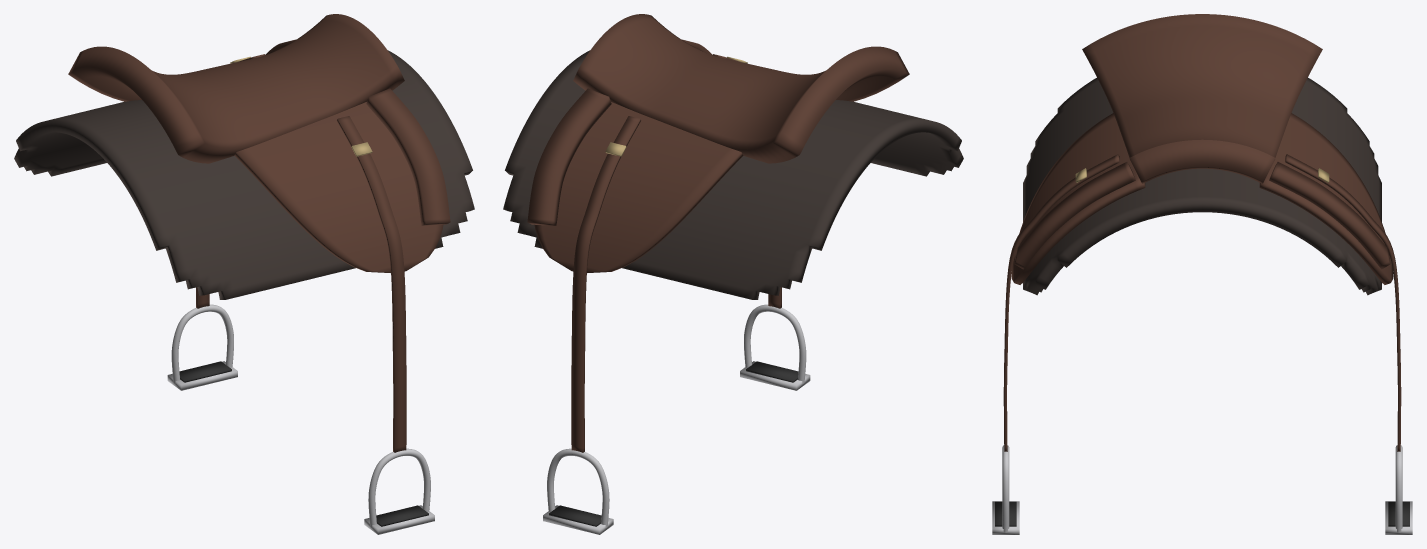
Rendered from saddle.glb.
The picture shows the model from 3 angles, left to right: view 1: azimuth 30°, elevation 25°; view 2: azimuth 150°, elevation 25°; view 3: azimuth 270°, elevation 25°; orthographic projection.
Parts seen in each view (by area): view 1: Вальтрап, Сидіння, Крило_Л, Путлище_Л, Наколінник_Л, Стремено_Л, Стремено_П, Гума_Л, Гума_П, Підніжка_Л, Підніжка_П; view 2: Вальтрап, Сидіння, Крило_П, Путлище_П, Наколінник_П, Стремено_П, Стремено_Л, Гума_П, Гума_Л, Підніжка_Л, Підніжка_П; view 3: Сидіння, Вальтрап, Крило_Л, Крило_П, Наколінник_Л, Наколінник_П, Путлище_Л, Путлище_П, Стремено_Л, Стремено_П.
Boxes of the visible parts, bbox=[...] form: Вальтрап: bbox=[14, 50, 474, 299]; Сидіння: bbox=[68, 14, 404, 163]; Крило_Л: bbox=[234, 102, 443, 272]; Путлище_Л: bbox=[337, 116, 406, 452]; Наколінник_Л: bbox=[366, 88, 450, 225]; Стремено_Л: bbox=[368, 448, 430, 527]; Стремено_П: bbox=[171, 304, 233, 383]; Гума_Л: bbox=[376, 505, 428, 526]; Гума_П: bbox=[179, 361, 231, 382]; Підніжка_Л: bbox=[364, 505, 434, 534]; Підніжка_П: bbox=[167, 361, 237, 390]; Вальтрап: bbox=[503, 50, 963, 299]; Сидіння: bbox=[573, 14, 909, 163]; Крило_П: bbox=[534, 102, 743, 272]; Путлище_П: bbox=[571, 116, 640, 452]; Наколінник_П: bbox=[527, 88, 611, 225]; Стремено_П: bbox=[547, 448, 609, 527]; Стремено_Л: bbox=[744, 304, 806, 383]; Гума_П: bbox=[549, 505, 601, 526]; Гума_Л: bbox=[746, 361, 798, 382]; Підніжка_Л: bbox=[740, 361, 810, 390]; Підніжка_П: bbox=[543, 505, 613, 534]; Сидіння: bbox=[1082, 14, 1322, 183]; Вальтрап: bbox=[1023, 78, 1381, 295]; Крило_Л: bbox=[1011, 113, 1145, 284]; Крило_П: bbox=[1259, 113, 1393, 284]; Наколінник_Л: bbox=[1014, 162, 1135, 269]; Наколінник_П: bbox=[1269, 162, 1390, 269]; Путлище_Л: bbox=[1003, 154, 1119, 451]; Путлище_П: bbox=[1285, 154, 1401, 451]; Стремено_Л: bbox=[1002, 445, 1009, 532]; Стремено_П: bbox=[1395, 445, 1402, 532].
Bounding box in the file's own units: 0.66 × 0.866 × 0.77.
